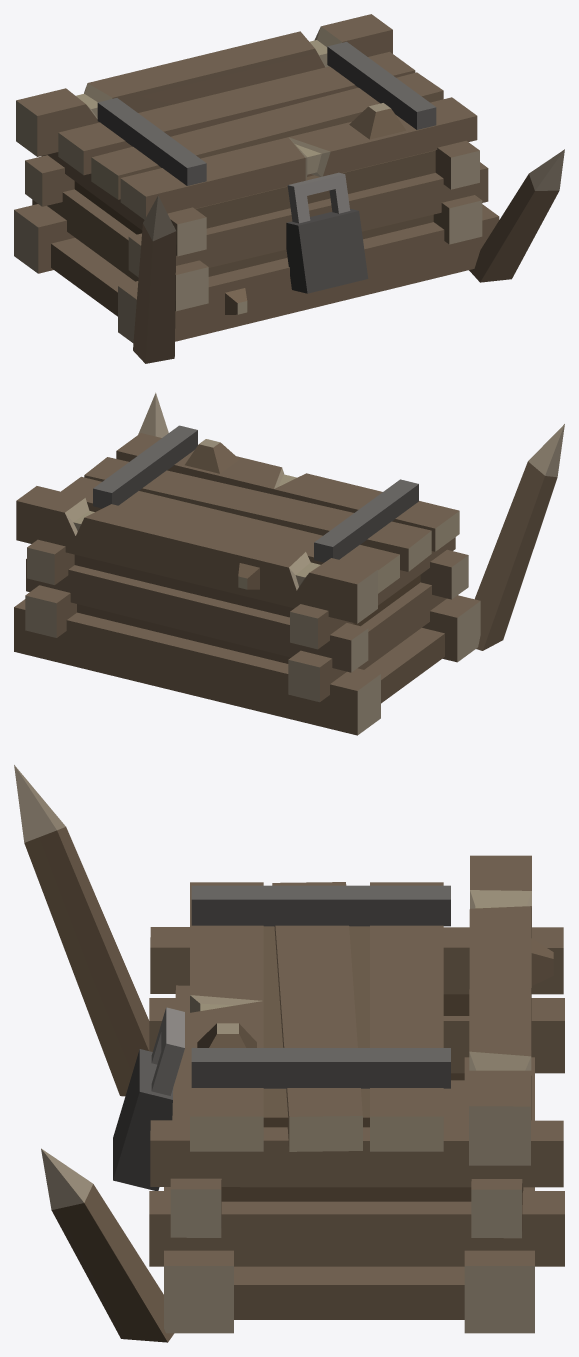
Rendered from SF_Prop_Goblin_Chest_01.fbx.
3 renders of one model, top to bottom at view 1: azimuth 30°, elevation 25°; view 2: azimuth 150°, elevation 25°; view 3: azimuth 270°, elevation 25°, orthographic. The views are drawn at different scales.
Visible parts, largest first — view 1: SF_Prop_Goblin_Chest_01, SF_Prop_Goblin_Chest_Lid_01, SF_Prop_Goblin_Chest_Lock_01; view 2: SF_Prop_Goblin_Chest_01, SF_Prop_Goblin_Chest_Lid_01; view 3: SF_Prop_Goblin_Chest_01, SF_Prop_Goblin_Chest_Lid_01, SF_Prop_Goblin_Chest_Lock_01.
Boxes of the visible parts, x1=… form: SF_Prop_Goblin_Chest_01: x1=14, y1=14, x2=564, y2=363; SF_Prop_Goblin_Chest_Lid_01: x1=58, y1=41, x2=477, y2=219; SF_Prop_Goblin_Chest_Lock_01: x1=286, y1=172, x2=368, y2=293; SF_Prop_Goblin_Chest_01: x1=14, y1=392, x2=564, y2=735; SF_Prop_Goblin_Chest_Lid_01: x1=61, y1=425, x2=459, y2=593; SF_Prop_Goblin_Chest_01: x1=14, y1=765, x2=564, y2=1342; SF_Prop_Goblin_Chest_Lid_01: x1=190, y1=882, x2=450, y2=1151; SF_Prop_Goblin_Chest_Lock_01: x1=113, y1=1007, x2=184, y2=1190.
Size of the model in its own units: 2.97 by 1.39 by 2.33.
